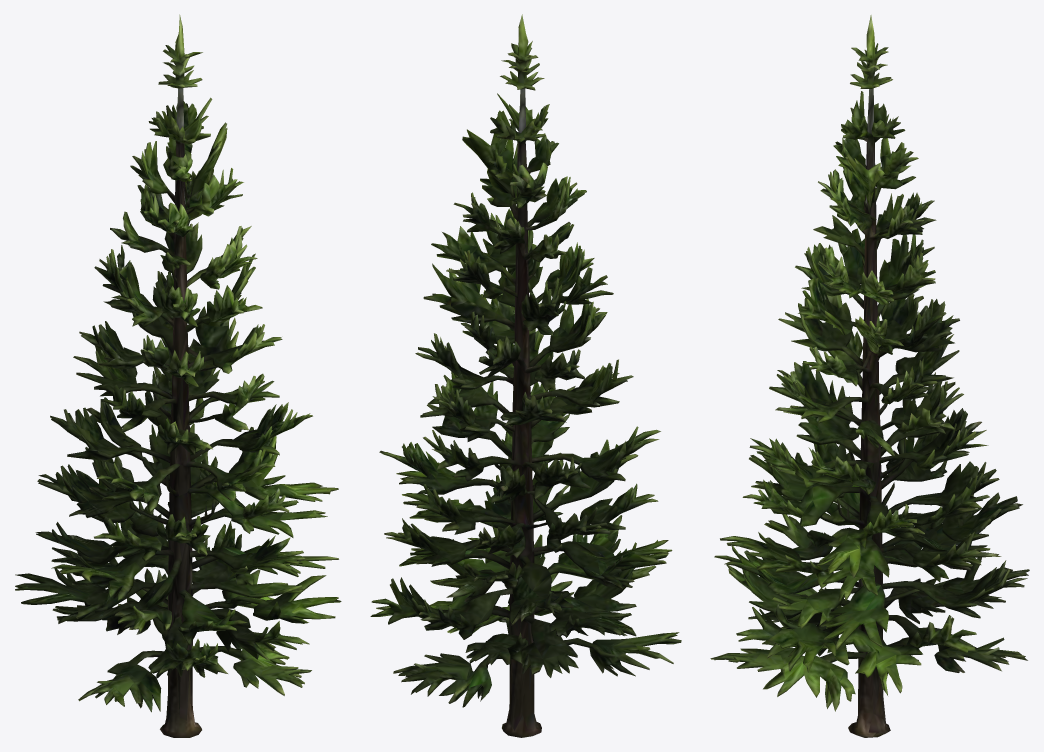
Rendered from araucaria-near.glb.
The picture shows the model from 3 angles, left to right: view 1: azimuth 30°, elevation 25°; view 2: azimuth 150°, elevation 25°; view 3: azimuth 270°, elevation 25°; orthographic projection.
Visible parts, largest first — view 1: tripo_node_aa99712f; view 2: tripo_node_aa99712f; view 3: tripo_node_aa99712f.
Part boxes in pixels (x1=…): tripo_node_aa99712f: x1=15, y1=14, x2=341, y2=737; tripo_node_aa99712f: x1=370, y1=14, x2=681, y2=737; tripo_node_aa99712f: x1=710, y1=15, x2=1029, y2=737.
Size of the model in its own units: 6.93 by 17 by 6.88.
1 material, 1 textured.
